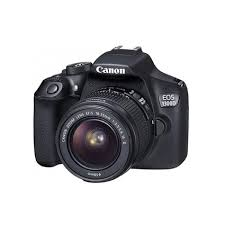camera: (35, 52, 186, 181)
